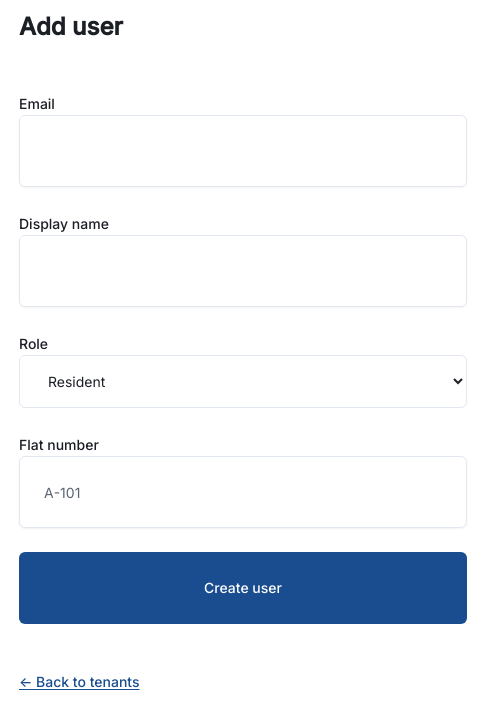
Test: CreateUser › shows catalog error message on USER_EMAIL_TAKEN failure
This screenshot has width=487, height=707.
Type "dup@test.com" into the field labelled "Email". click: (243, 151)
box: [19,115,467,187]
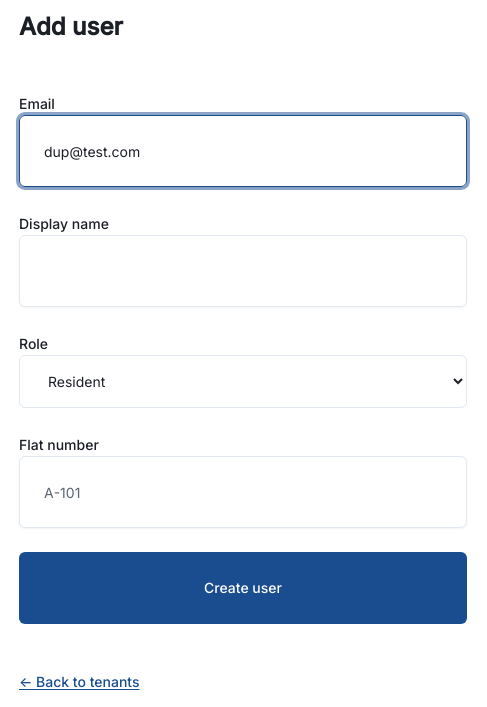
Type "Dup User" into the field labelled "Display name". click: (243, 271)
box: [19,235,467,307]
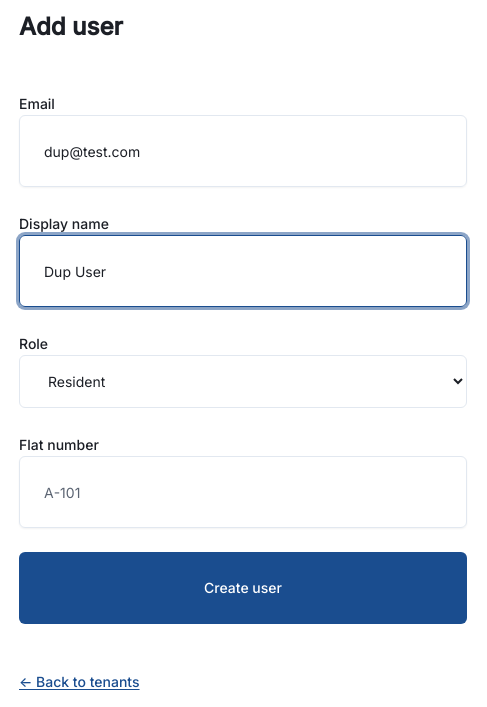
Type "B-202" into the field labelled "Flat number". click: (243, 492)
box: [19,456,467,528]
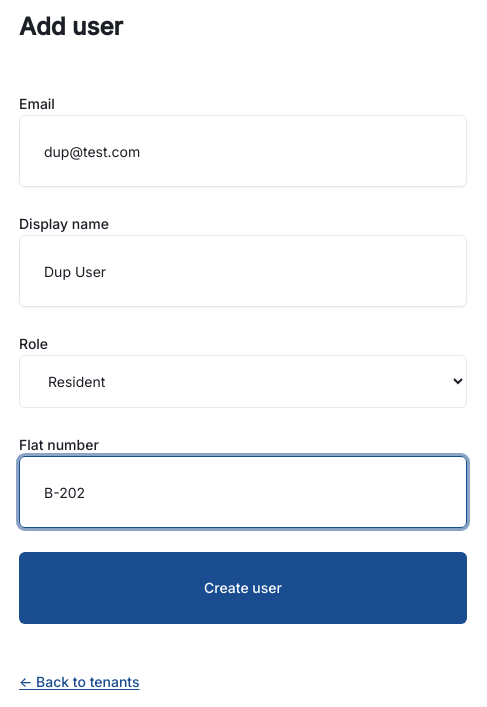
Click the button "Create user". click: (243, 588)
box: [19,552,467,624]
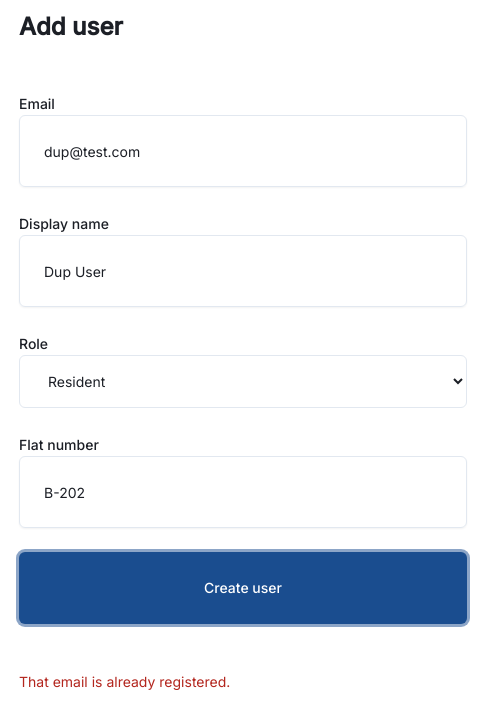
Now the text "That email is already registered." is shown, box [19,673,230,690]
